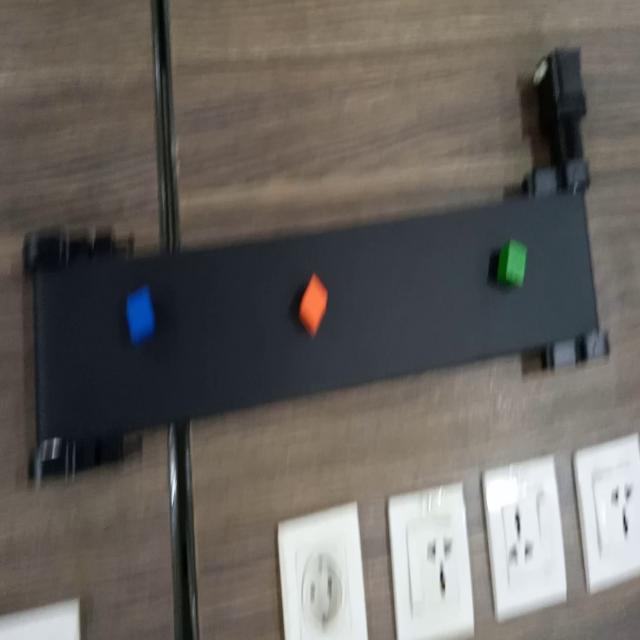cube: (492, 229, 538, 291), (123, 279, 163, 347)
